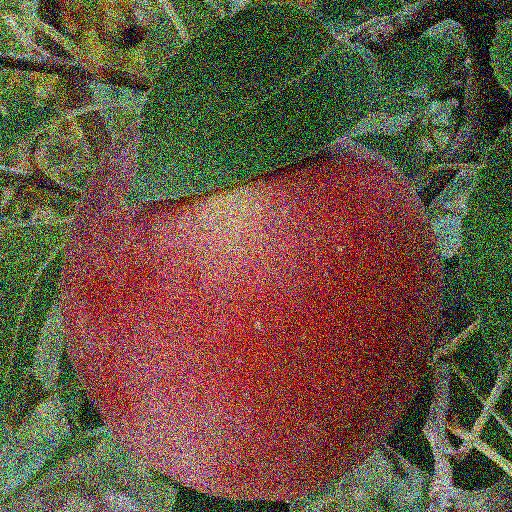fruit: (399, 152, 479, 498)
